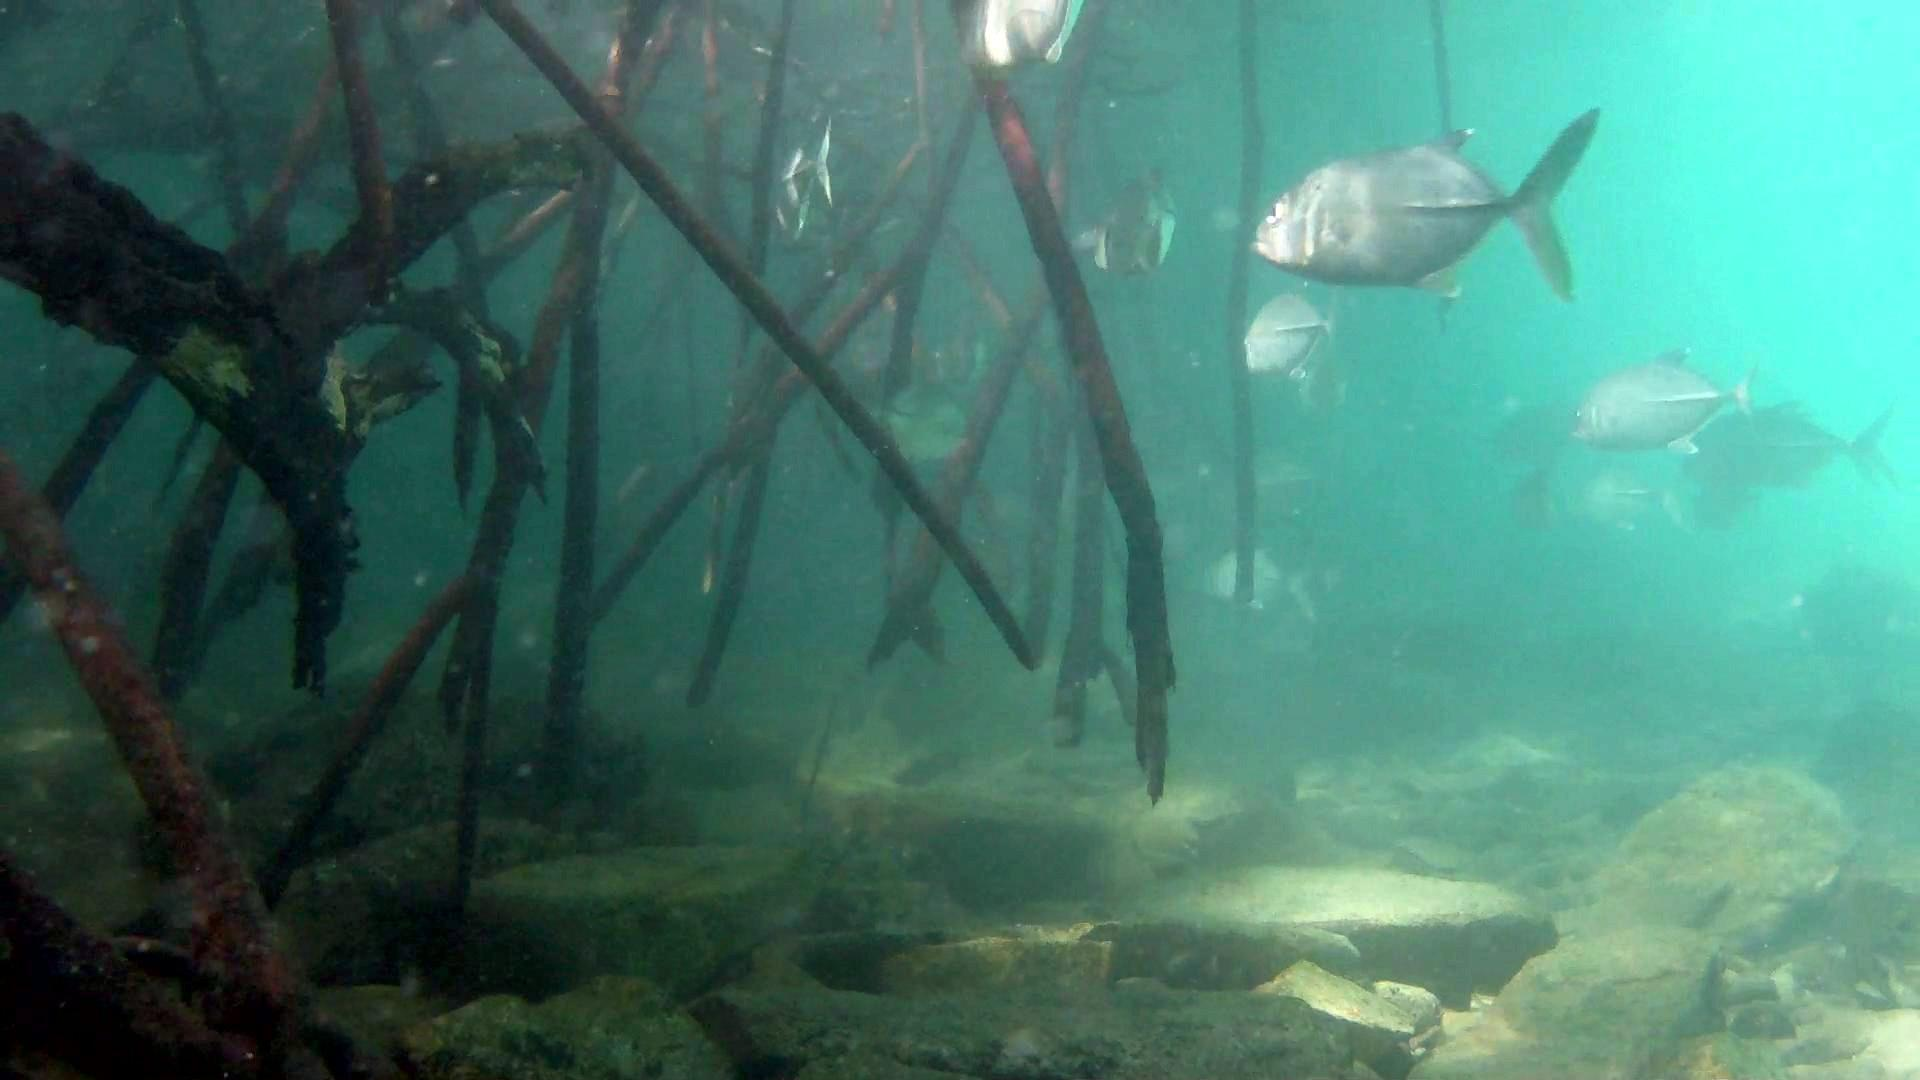caranx: (1238, 96, 1618, 319), (1553, 340, 1771, 468)
